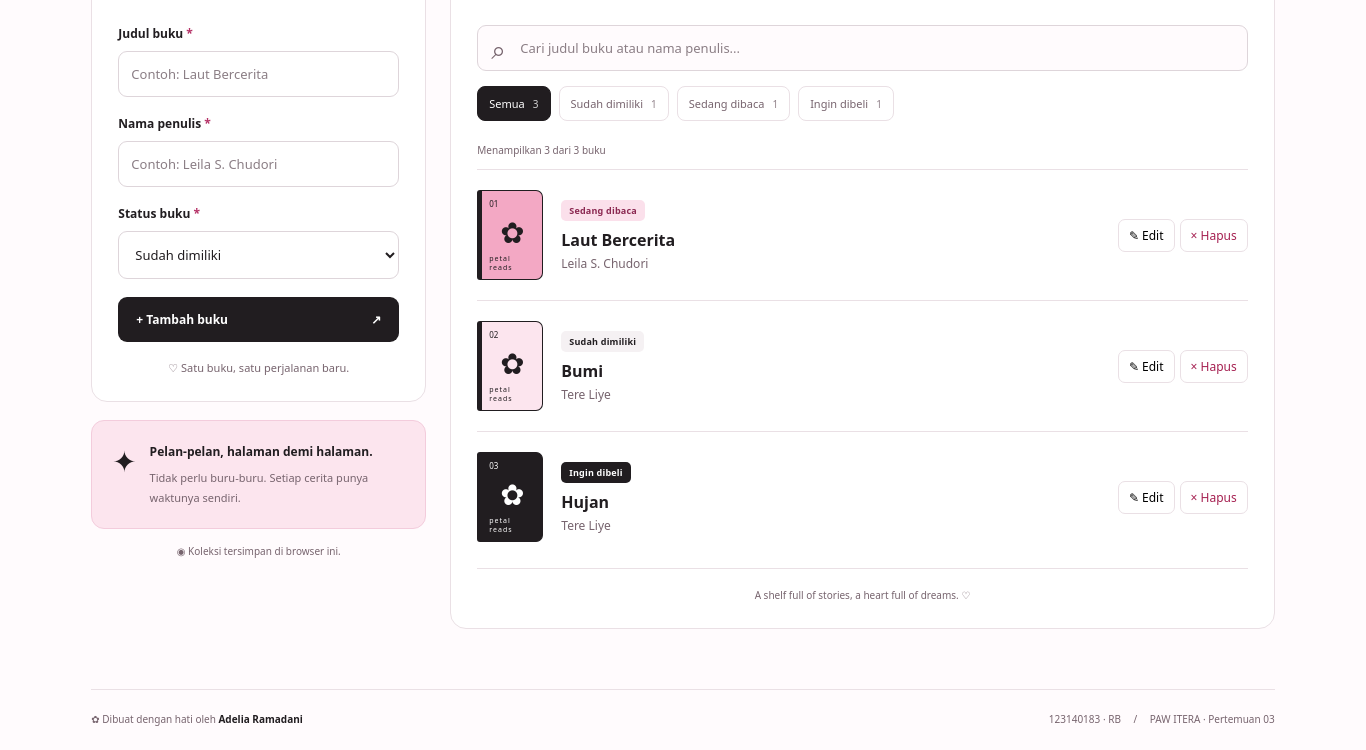
membatalkan hapus mempertahankan buku; konfirmasi menghapus dan menyimpan
(page scrolled)
Click the button with aria-label "Hapus Bumi" at (1214, 366), box [1180,350,1248,382]
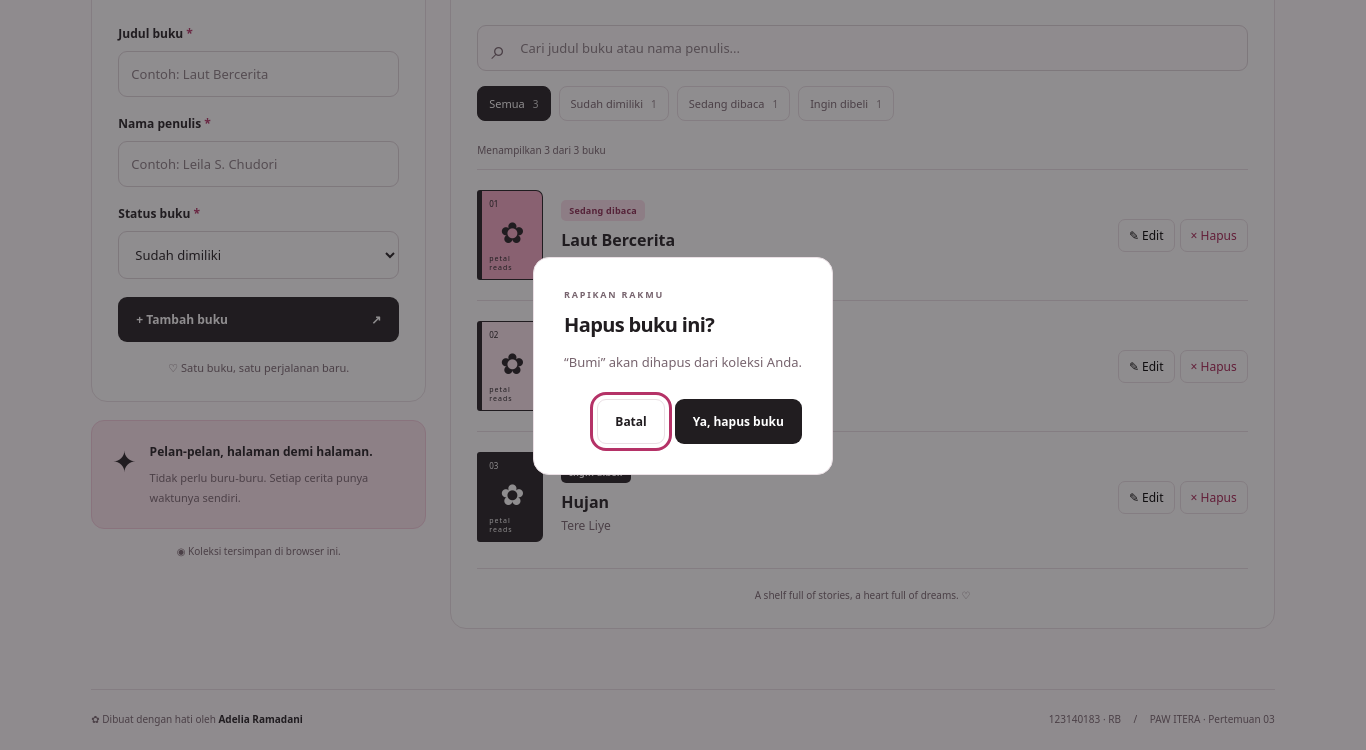
Click the button "Batal" at (631, 422), box [597,399,665,444]
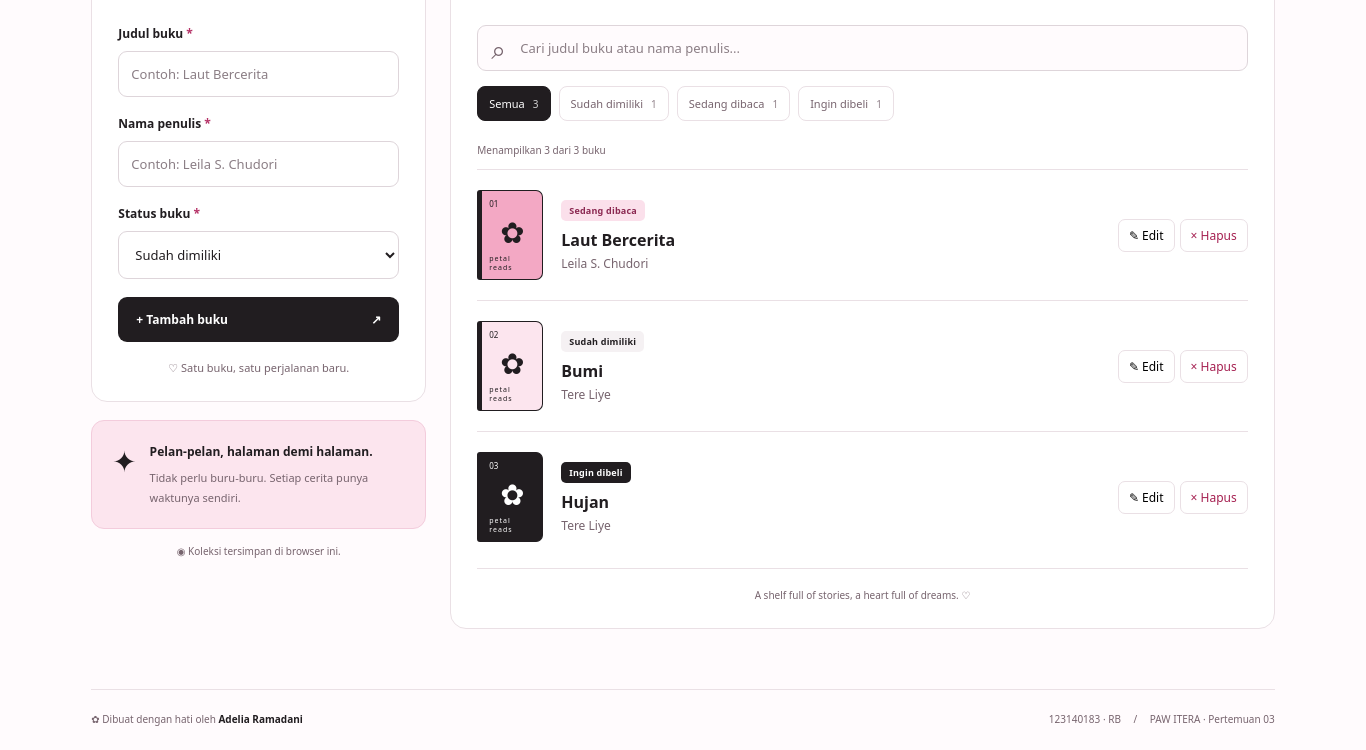
Expected: the heading "Bumi" is shown, [561,360,603,382]
Click the button with aria-label "Hapus Bumi" at (1214, 366), box [1180,350,1248,382]
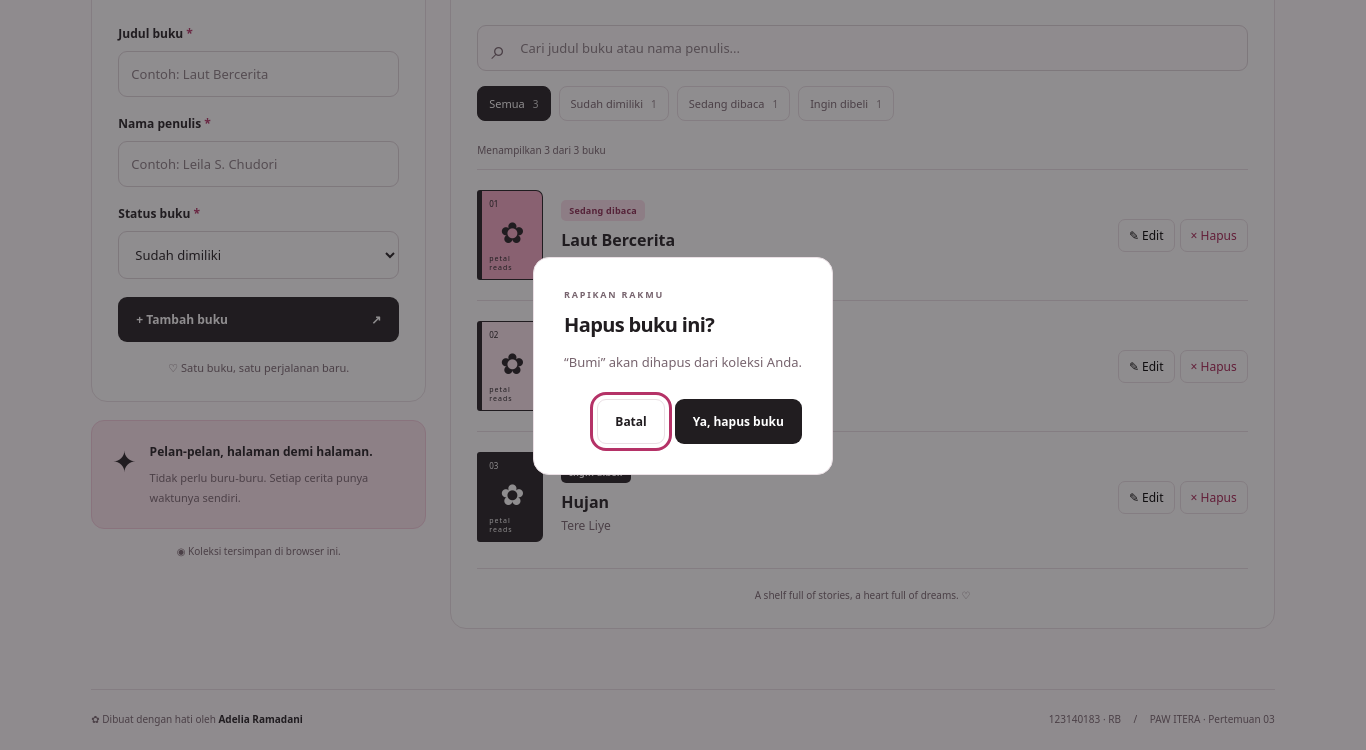
Click the button "Ya, hapus buku" at (738, 422), box [675,399,802,444]
(page scrolled)
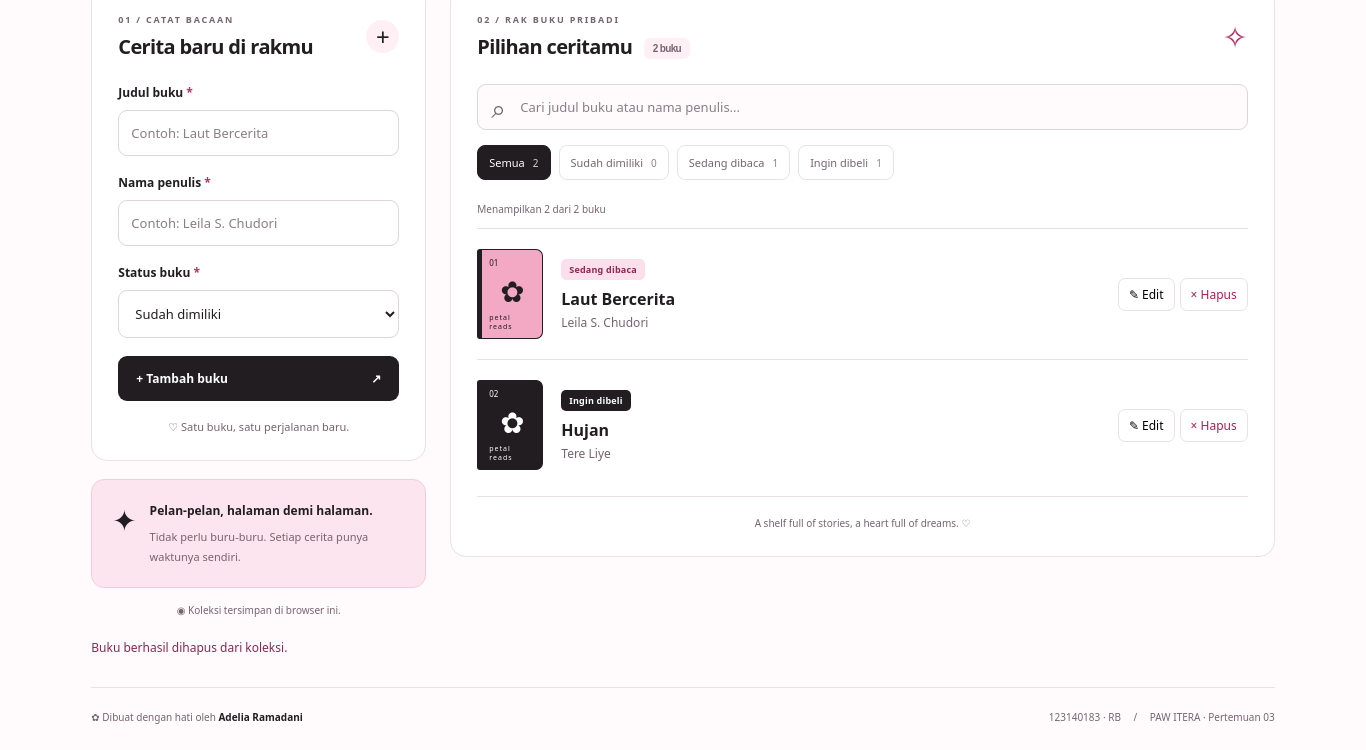
Result: the heading "Bumi" is gone
